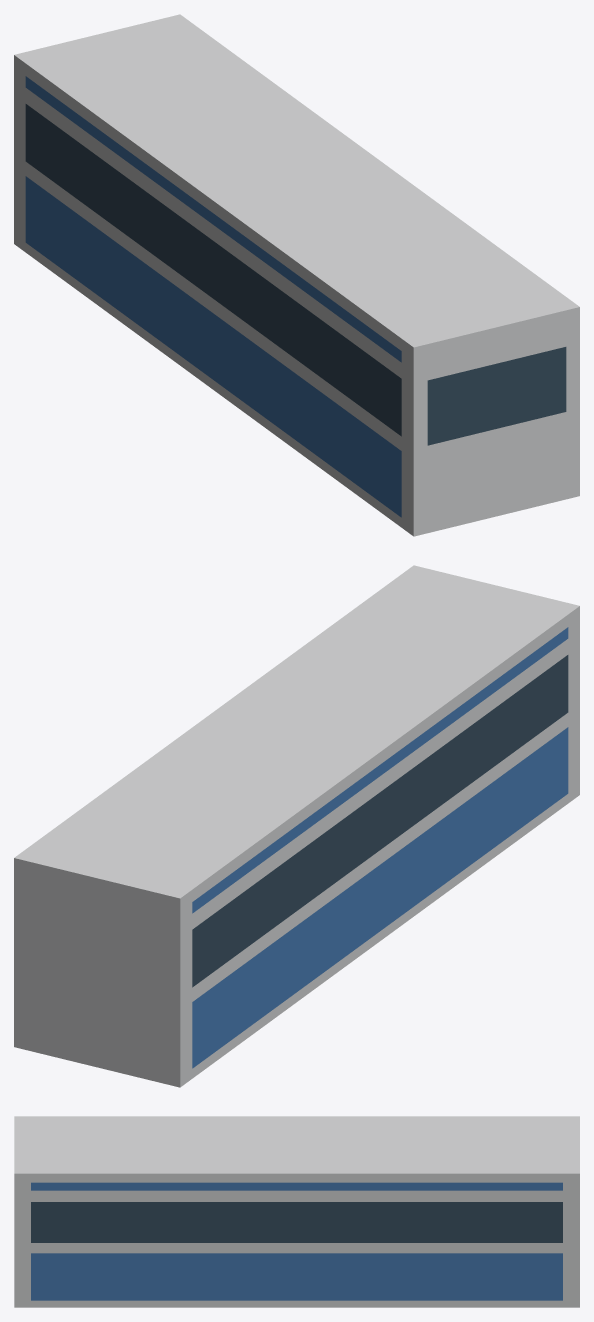
Rendered from 4_far.fbx.
The picture shows the model from 3 angles, top to bottom: view 1: azimuth 30°, elevation 25°; view 2: azimuth 150°, elevation 25°; view 3: azimuth 270°, elevation 25°; orthographic projection. The views are drawn at different scales.
Visible parts, largest first — view 1: 14_4_far; view 2: 14_4_far; view 3: 14_4_far.
Part boxes in pixels (x1,y1,x2,y2): 14_4_far: (14,14,579,536); 14_4_far: (14,565,579,1087); 14_4_far: (14,1116,579,1307).
Bounding box in the file's own units: 2.41 × 2.61 × 10.
